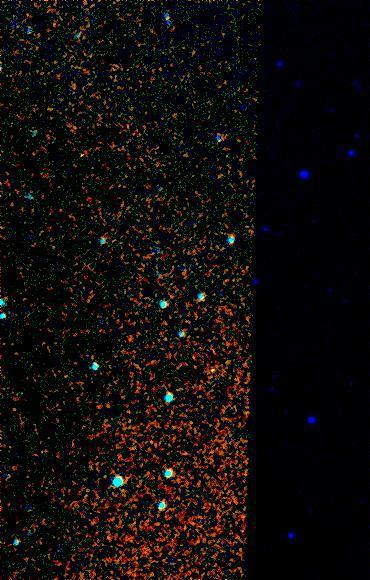star: (64, 139, 94, 169)
